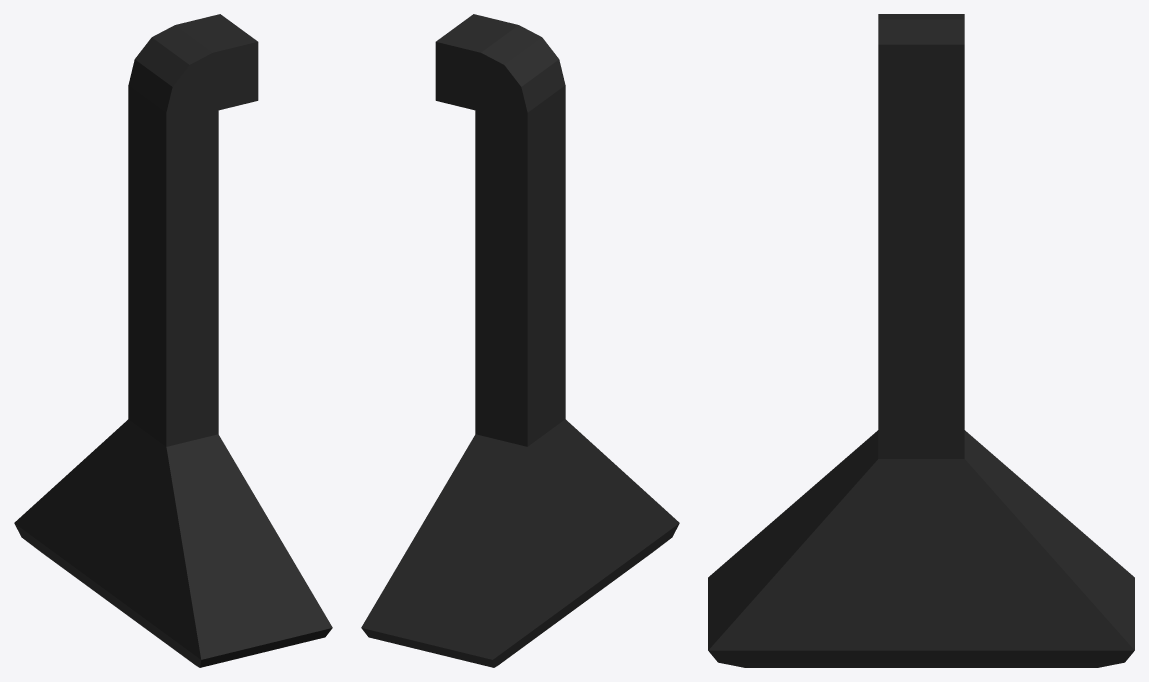
The model's file is Chimney_2.fbx.
3 views of the same model, side by side, from view 1: azimuth 30°, elevation 25°; view 2: azimuth 150°, elevation 25°; view 3: azimuth 270°, elevation 25° (orthographic). The views are drawn at different scales.
Parts seen in each view (by area): view 1: Chimney_2; view 2: Chimney_2; view 3: Chimney_2.
Part boxes in pixels (left/top/right/bottom): Chimney_2: left=14, top=14, right=332, bottom=667; Chimney_2: left=361, top=14, right=679, bottom=667; Chimney_2: left=708, top=14, right=1134, bottom=667.
Size of the model in its own units: 0.2627 by 1.06 by 0.6469.
